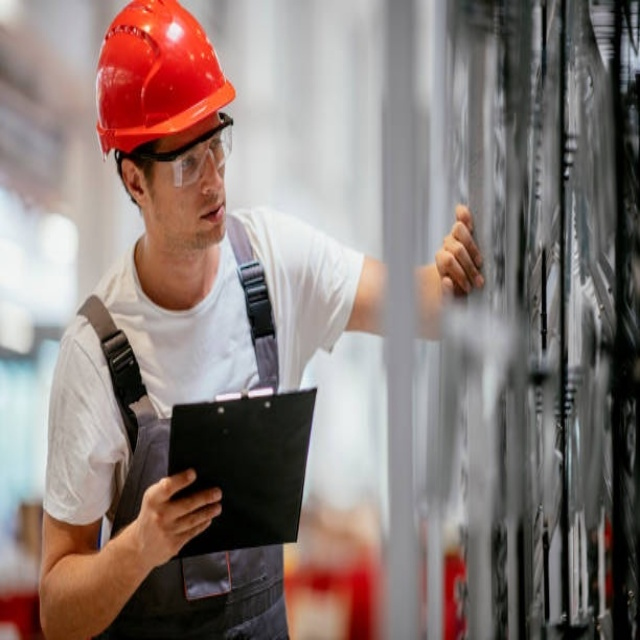Gafas: (133, 117, 234, 190)
Sin_guantes: (128, 466, 226, 571), (436, 203, 484, 297)
Sin_mascara: (192, 196, 229, 248)
